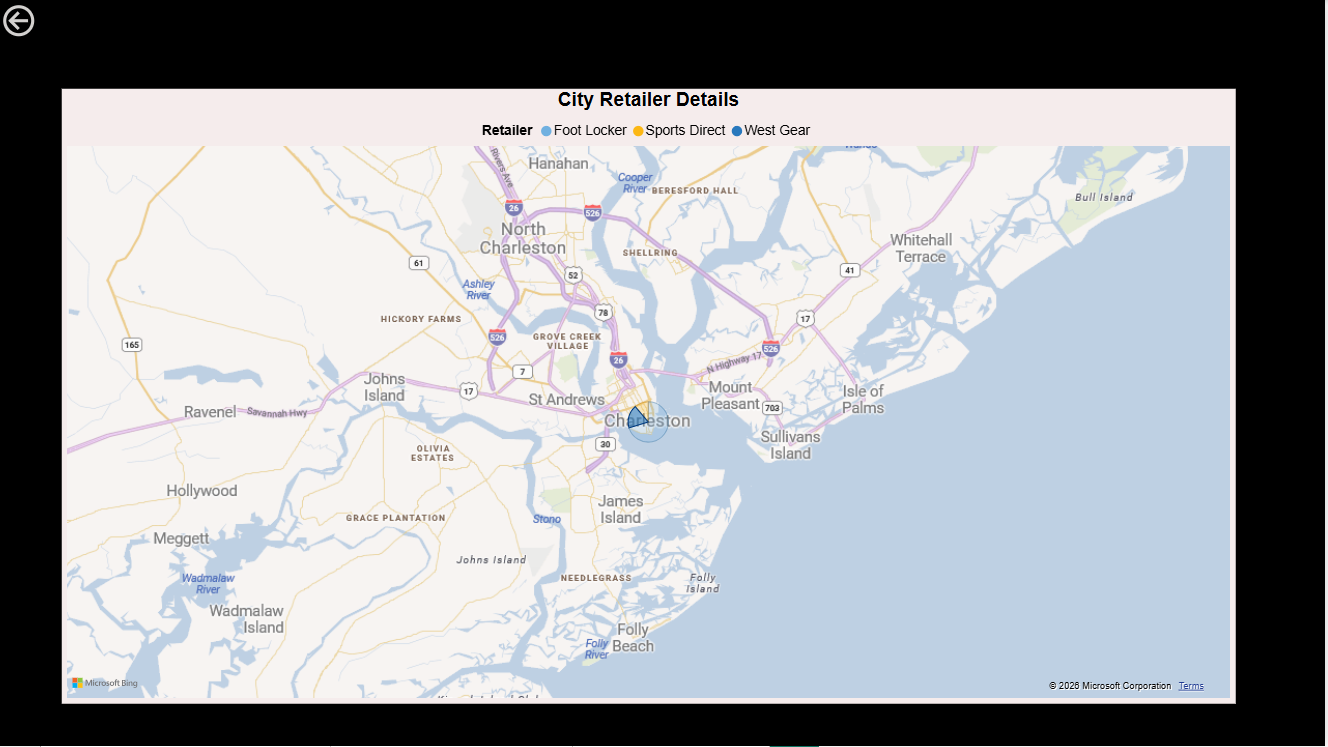

The page's visual inventory and layout, read from the dashboard file:
{"tool":"powerbi","page":{"name":"Retailer Drill Through","canvas":[1280,720],"ordinal":2},"visuals":[{"type":"actionButton","box":[0,0,100,40],"z":0},{"type":"map","title":"City Retailer Details","fields":{"Category":["Data Sales Adidas.City"],"Series":["Data Sales Adidas.Retailer"],"Size":["Sum(Data Sales Adidas.Total Sales)"]},"box":[62,85.1,1132.6,593],"z":1000}]}

Visuals, with their boxes in screenshot pixels (x1, y1, x2, y2):
actionButton: (10,3,113,44)
"City Retailer Details" map: (74,91,1233,697)
